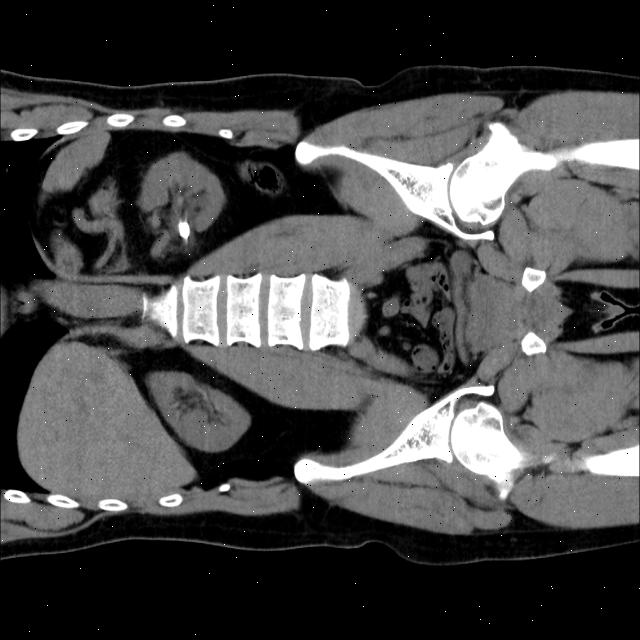kidneystone: (179, 221, 190, 237)
